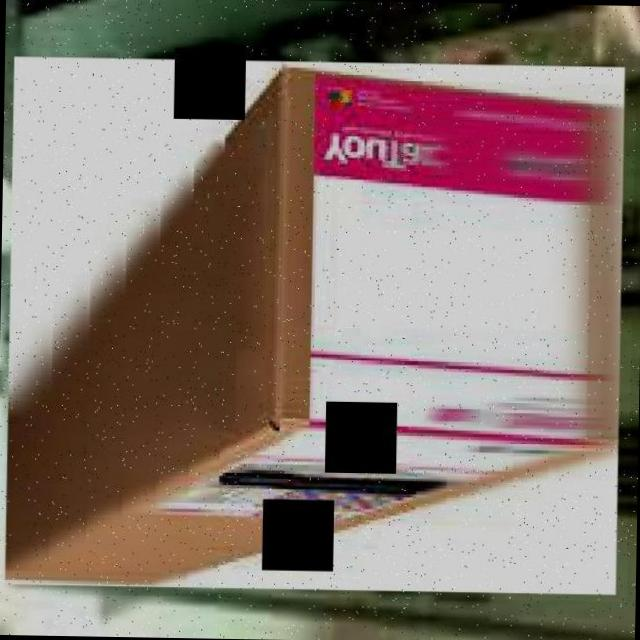box: (0, 47, 635, 602)
